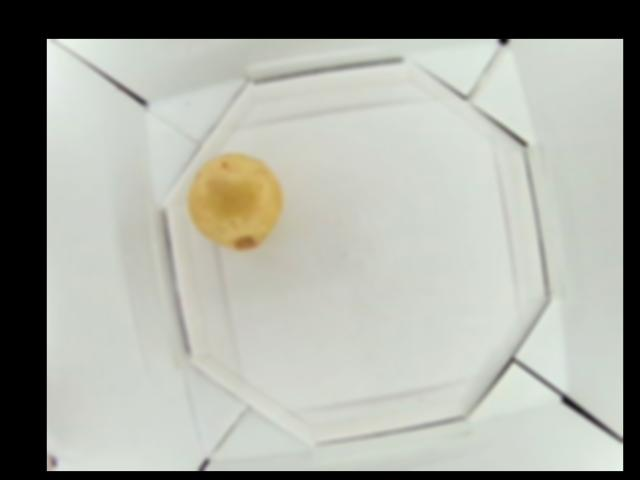Potato: (190, 156, 280, 252)
